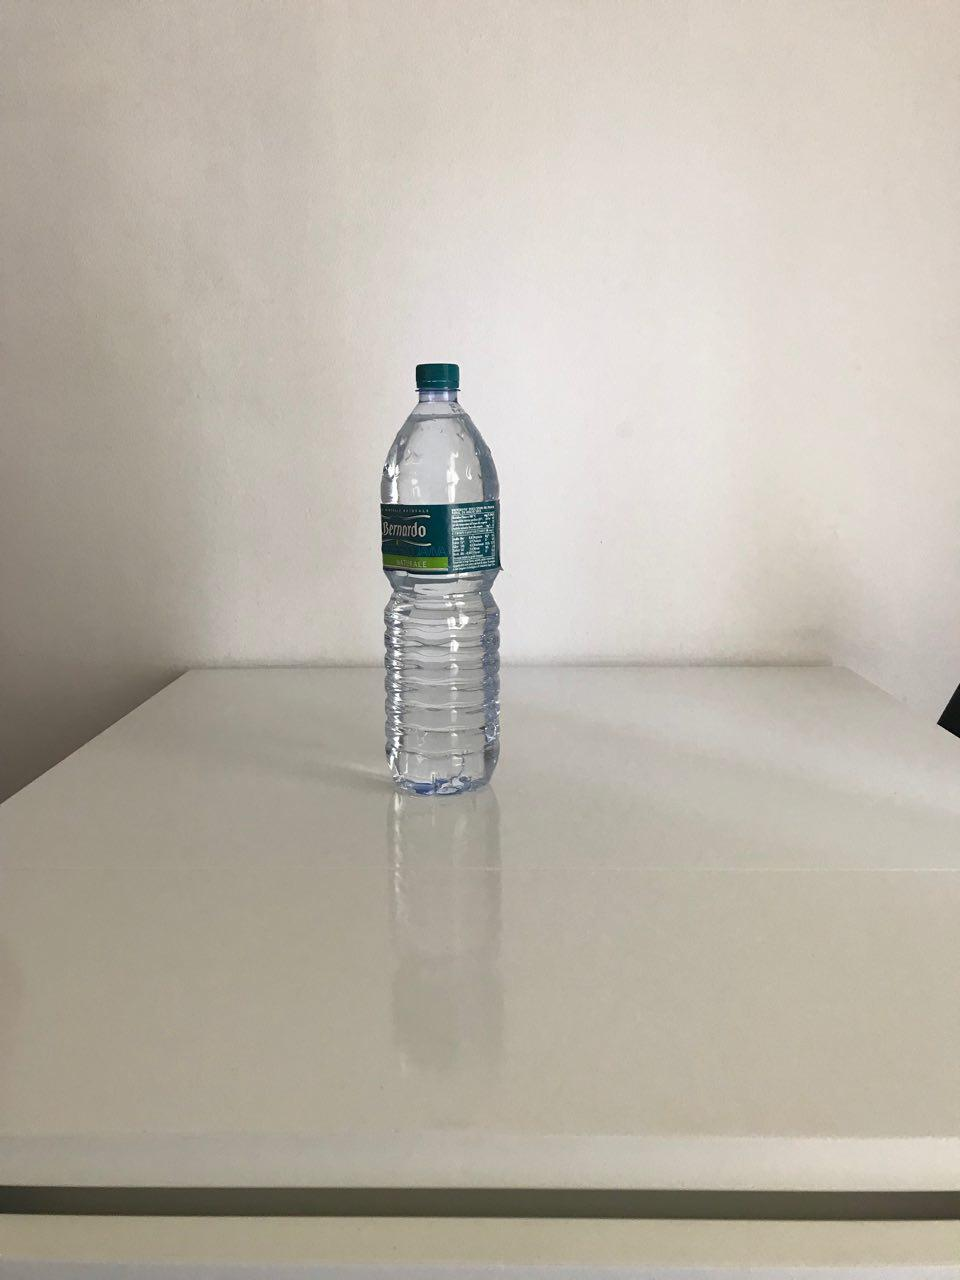san_bernardo: (378, 362, 504, 798)
